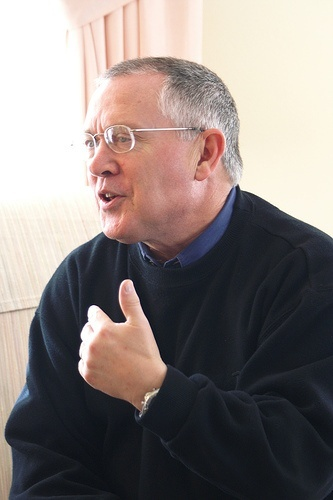head: (87, 55, 241, 245)
person: (8, 49, 332, 500)
